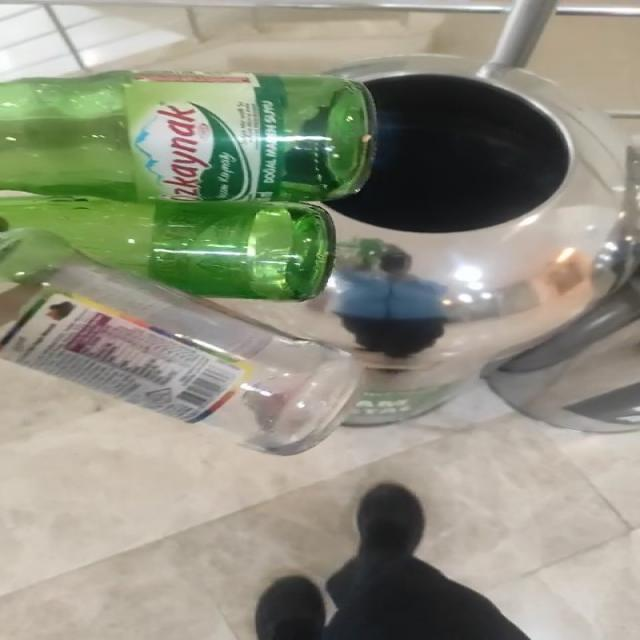glass: (1, 70, 375, 456)
